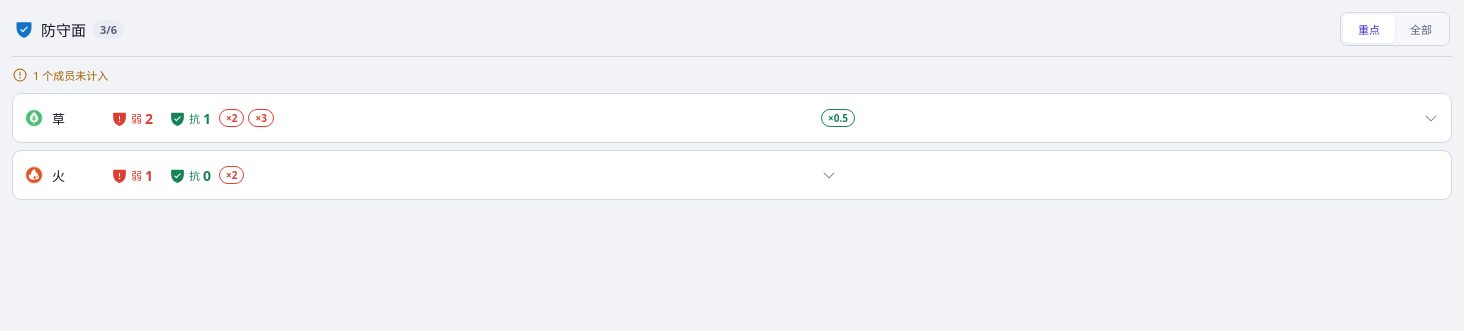
it: shows priority risks with compact counts and one expanded detail row
Expected: the text "3/6" is shown, [93, 20, 124, 38]
Expected: the text "1 个成员未计入" is shown, [12, 67, 108, 83]
Click the button "草 弱 2 抗 1 ×2 ×3 ×0.5": (838, 118) [13, 94, 1451, 142]
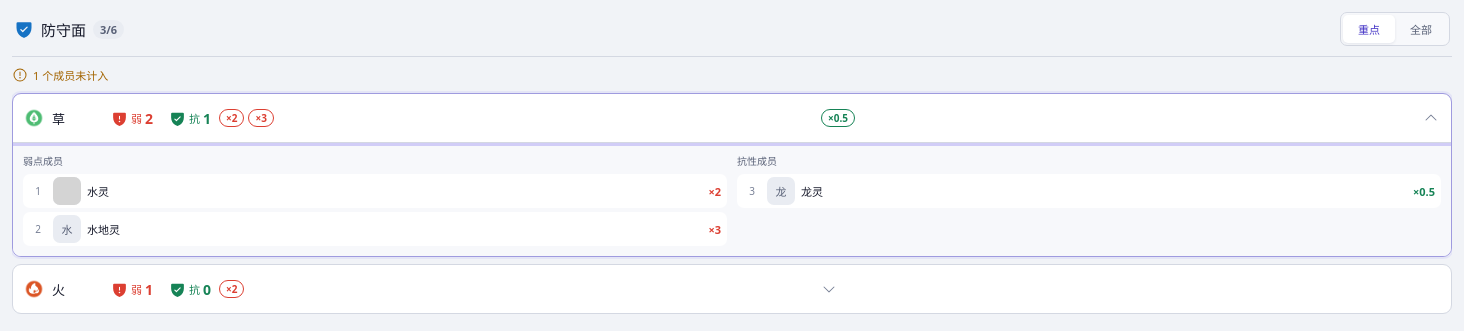
Expected: the text "水灵" is shown, [87, 184, 109, 199]
Expected: the text "×3" is shown 2 times, [248, 109, 274, 127]; [708, 222, 721, 236]
Click the button "火 弱 1 抗 0 ×2": (34, 289) [13, 265, 1451, 313]
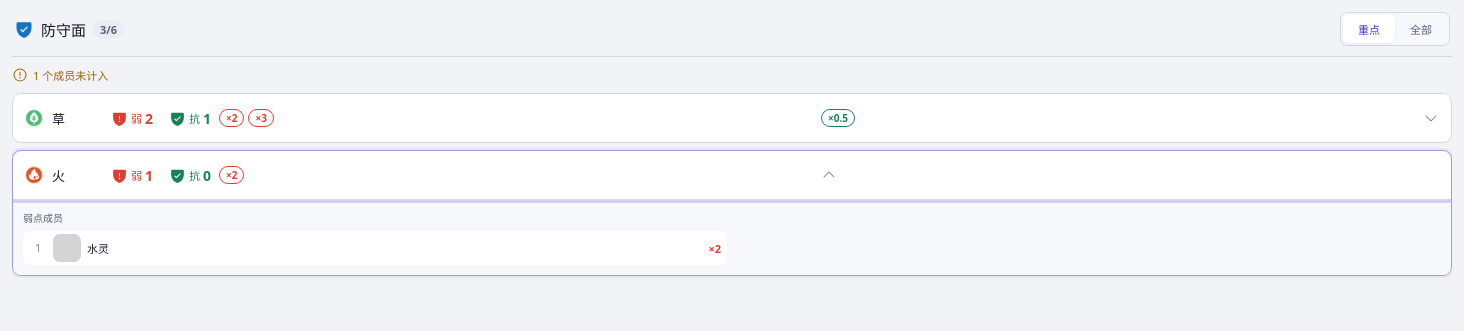
Expected: the text "水地灵" is gone
